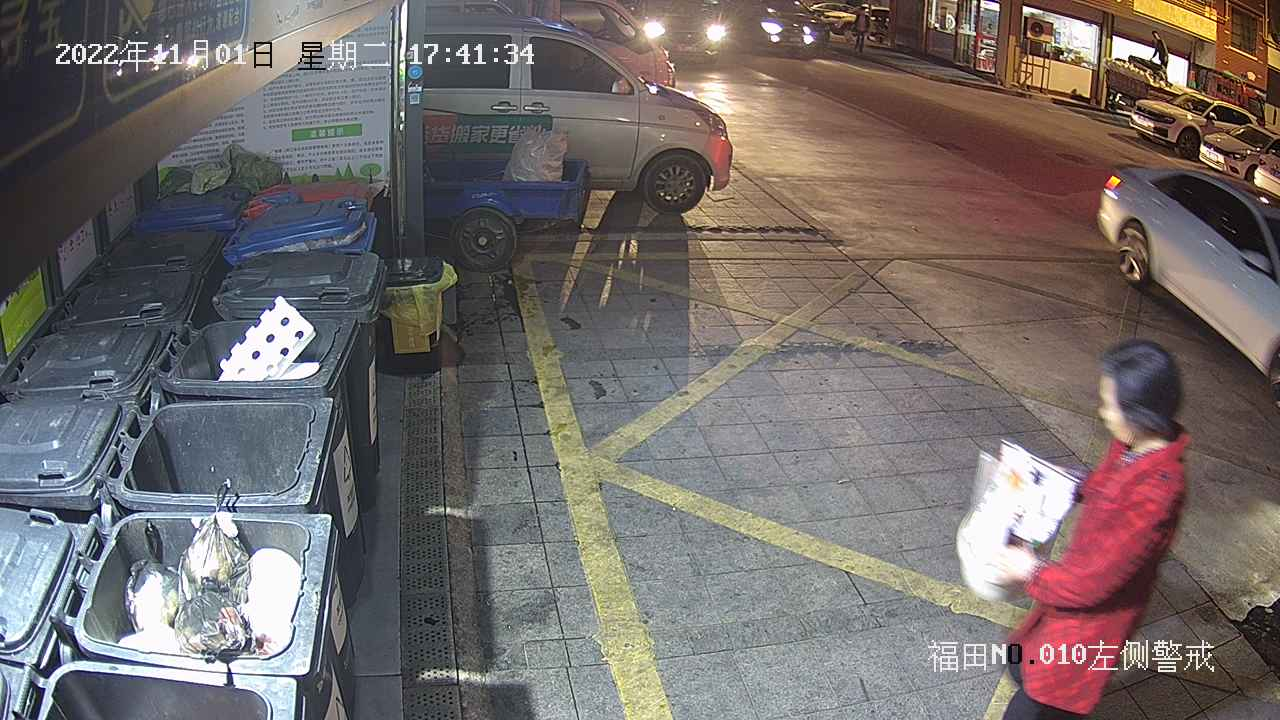garbage-bag: (954, 438, 1081, 607)
person: (985, 337, 1194, 720)
